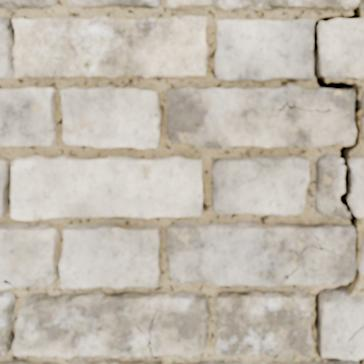brick: (0, 290, 209, 358), (0, 16, 208, 78), (0, 156, 202, 219), (167, 222, 355, 285), (189, 295, 363, 363), (167, 85, 354, 148), (0, 223, 161, 289), (216, 291, 313, 355), (61, 88, 160, 148), (215, 20, 313, 80), (212, 156, 308, 214), (0, 88, 56, 145), (318, 19, 363, 79), (167, 0, 358, 10), (68, 0, 159, 7), (0, 0, 56, 8), (69, 359, 161, 363), (0, 360, 56, 363), (360, 244, 363, 274), (362, 114, 363, 137)
broken_brick: (314, 153, 349, 219), (349, 155, 363, 218)
crack: (312, 2, 363, 361), (132, 306, 159, 356), (1, 279, 15, 287), (44, 282, 49, 286), (358, 359, 362, 363)
